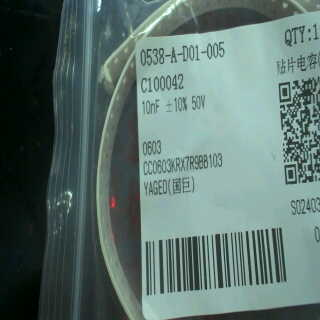10nF: (141, 97, 163, 117)
